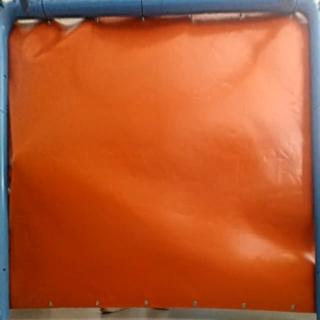Hit-hRxx: (9, 150, 19, 168)
